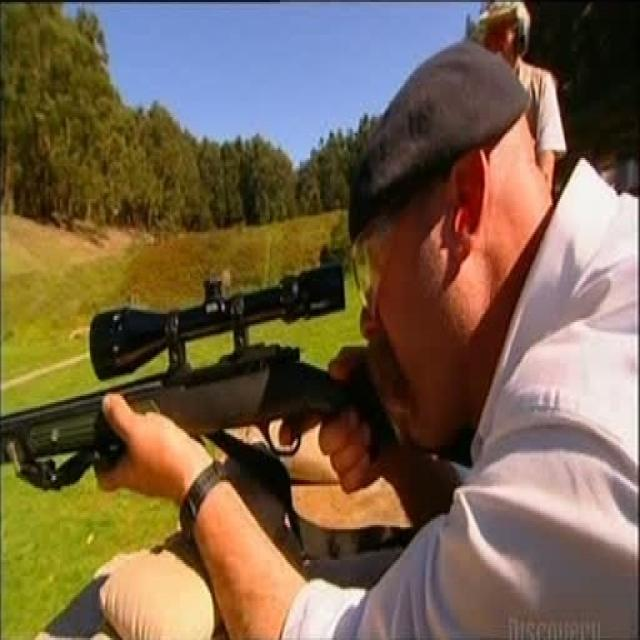rifle: (1, 239, 381, 501)
